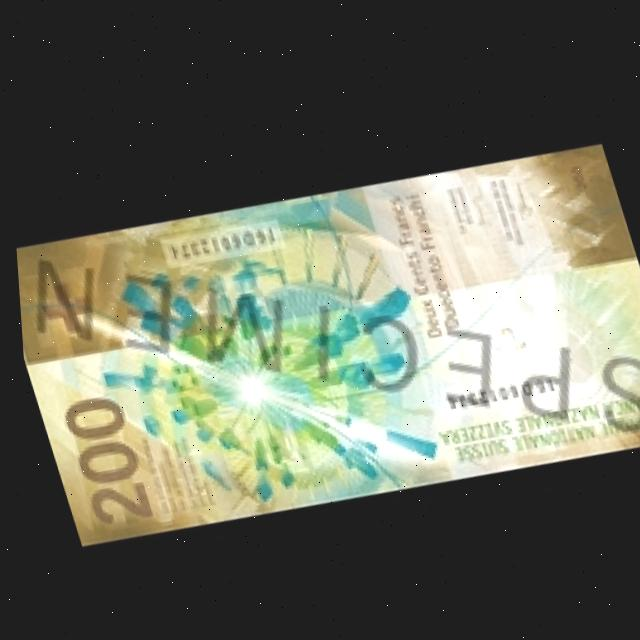banknote: (5, 102, 640, 578), (38, 380, 159, 533), (556, 143, 601, 192)
